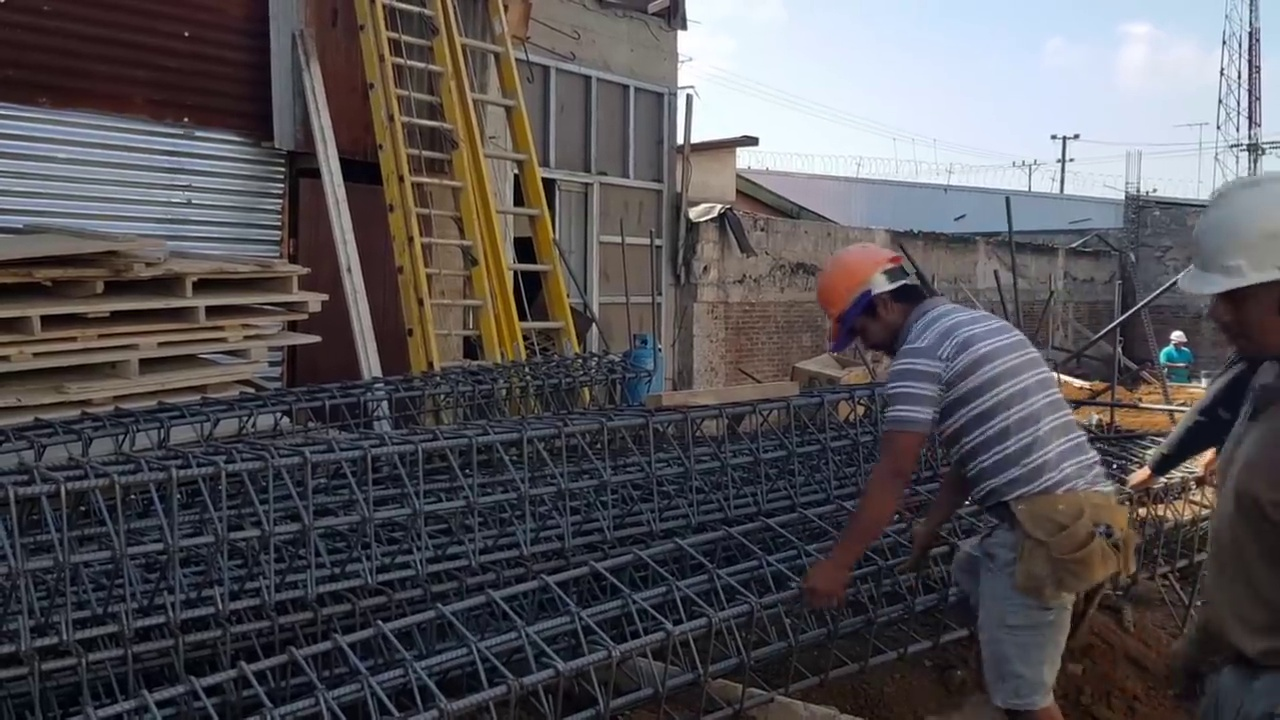helmet: (1181, 176, 1280, 302), (818, 250, 918, 345), (1169, 331, 1185, 344)
helmet-on: (1185, 161, 1280, 387), (813, 243, 948, 365), (1169, 332, 1188, 351)
person: (797, 240, 1138, 717), (1126, 160, 1280, 718), (1161, 332, 1198, 390)
